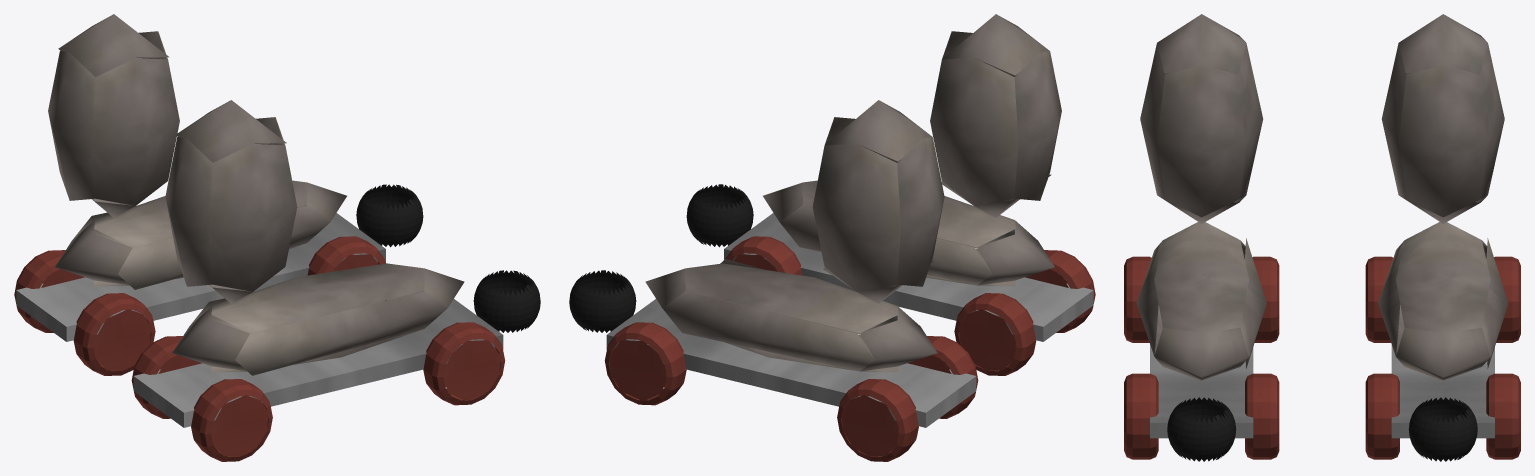
Rendered from SP13_RollerSkates.glb.
3 renders of one model, left to right at view 1: azimuth 30°, elevation 25°; view 2: azimuth 150°, elevation 25°; view 3: azimuth 270°, elevation 25°, orthographic. The views are drawn at different scales.
Visible parts, largest first — view 1: SP13_RollerSkates; view 2: SP13_RollerSkates; view 3: SP13_RollerSkates.
Part boxes in pixels (<box>): SP13_RollerSkates: <box>14,14,540,461</box>; SP13_RollerSkates: <box>569,14,1095,461</box>; SP13_RollerSkates: <box>1124,14,1520,461</box>.
Size of the model in its own units: 0.3 by 0.2506 by 0.2654.
4 materials, 4 textured.
